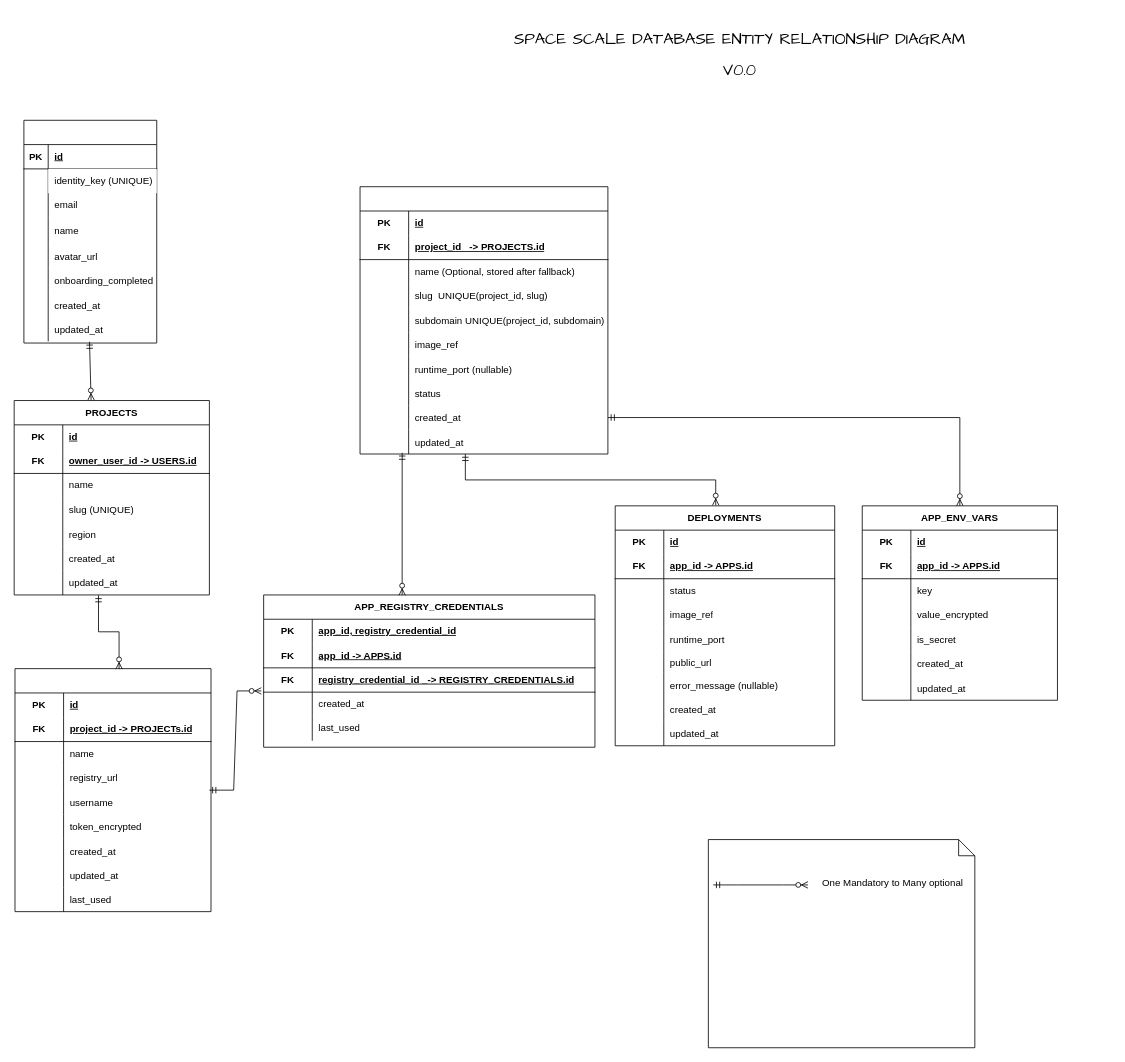
The diagram is 1125 pixels wide and 1062 high, and some of its shapes have lost their labels. The shapes that lost their labels are listed below. From the top down, each one's box as (x1, y1, x2, y2) in pixels, then its label:
(23, 119, 157, 343): USERS
(359, 186, 608, 454): APPS
(14, 668, 211, 912): REGISTRY_CREDENTIALS
